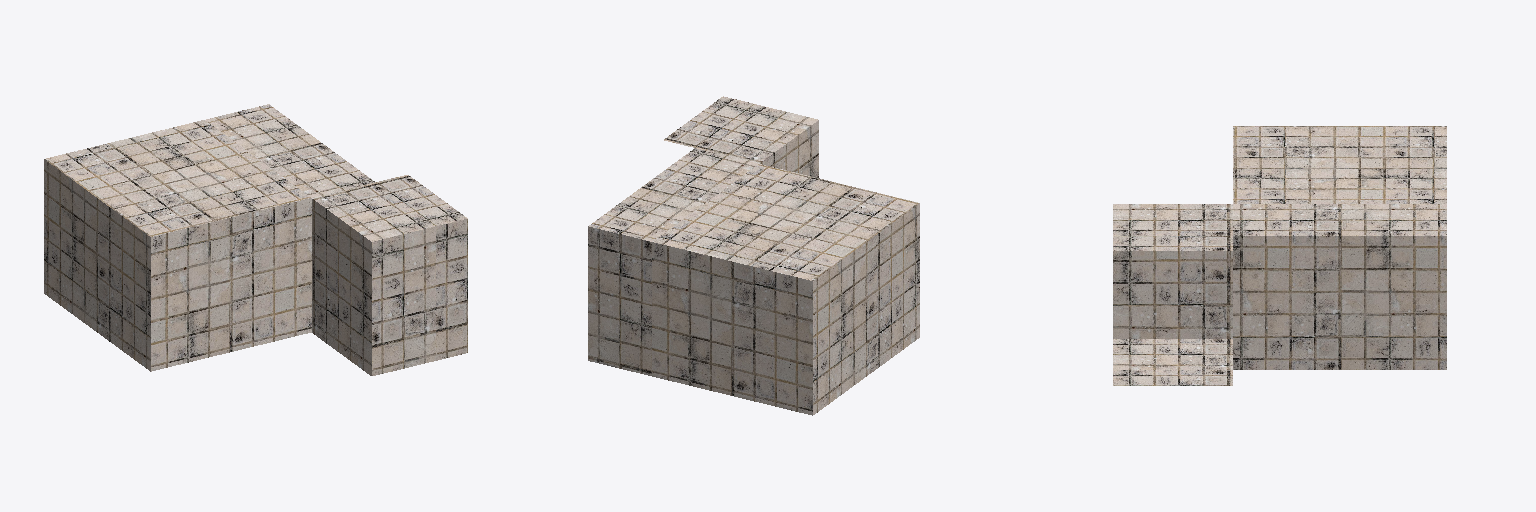
The picture shows the model from 3 angles: view 1: azimuth 30°, elevation 25°; view 2: azimuth 150°, elevation 25°; view 3: azimuth 270°, elevation 25°; orthographic projection.
Parts seen in each view (by area): view 1: Toilet; view 2: Toilet; view 3: Toilet.
Part boxes in pixels (bbox=[...]): Toilet: bbox=[44, 104, 467, 375]; Toilet: bbox=[588, 96, 919, 415]; Toilet: bbox=[1113, 126, 1446, 385].
Size of the model in its own units: 8 by 4 by 9.
Materials: 1 (1 with a texture image).